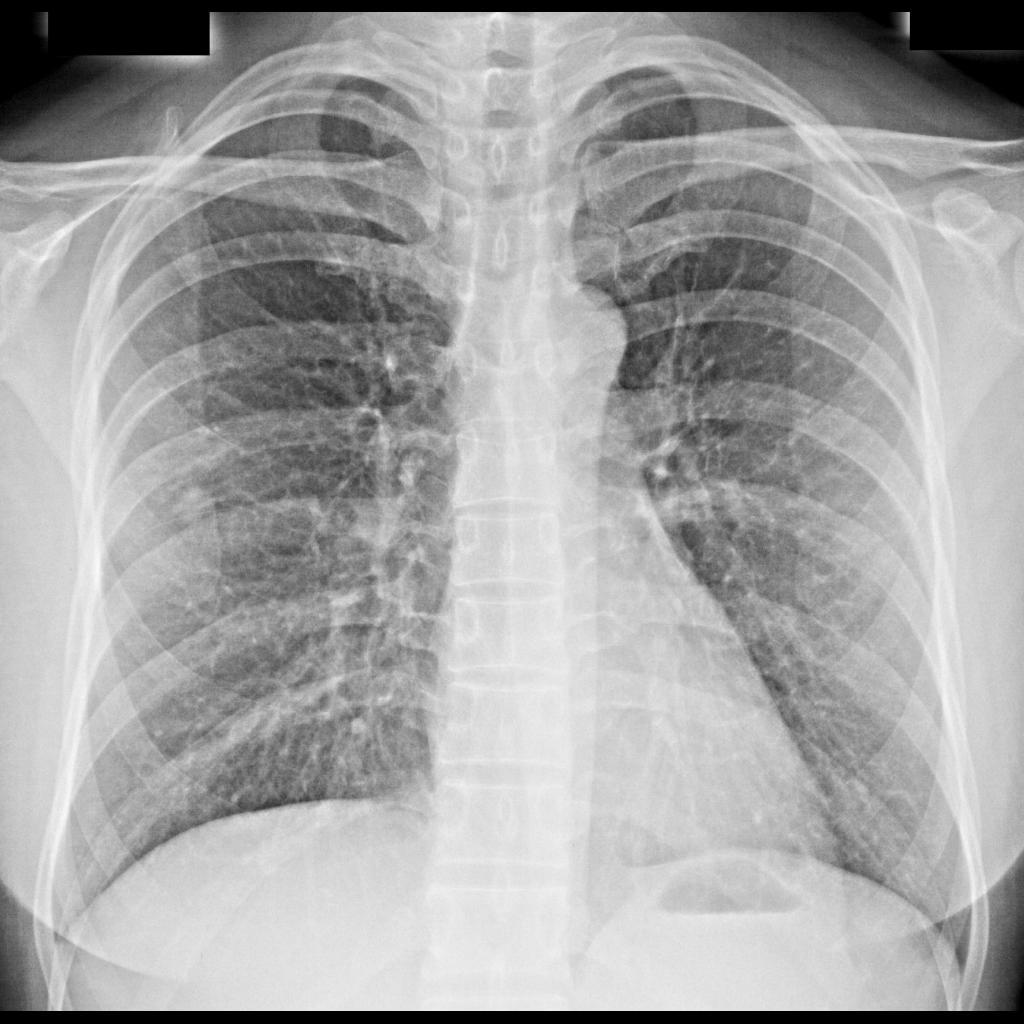Nodule: (176, 483, 214, 521)
